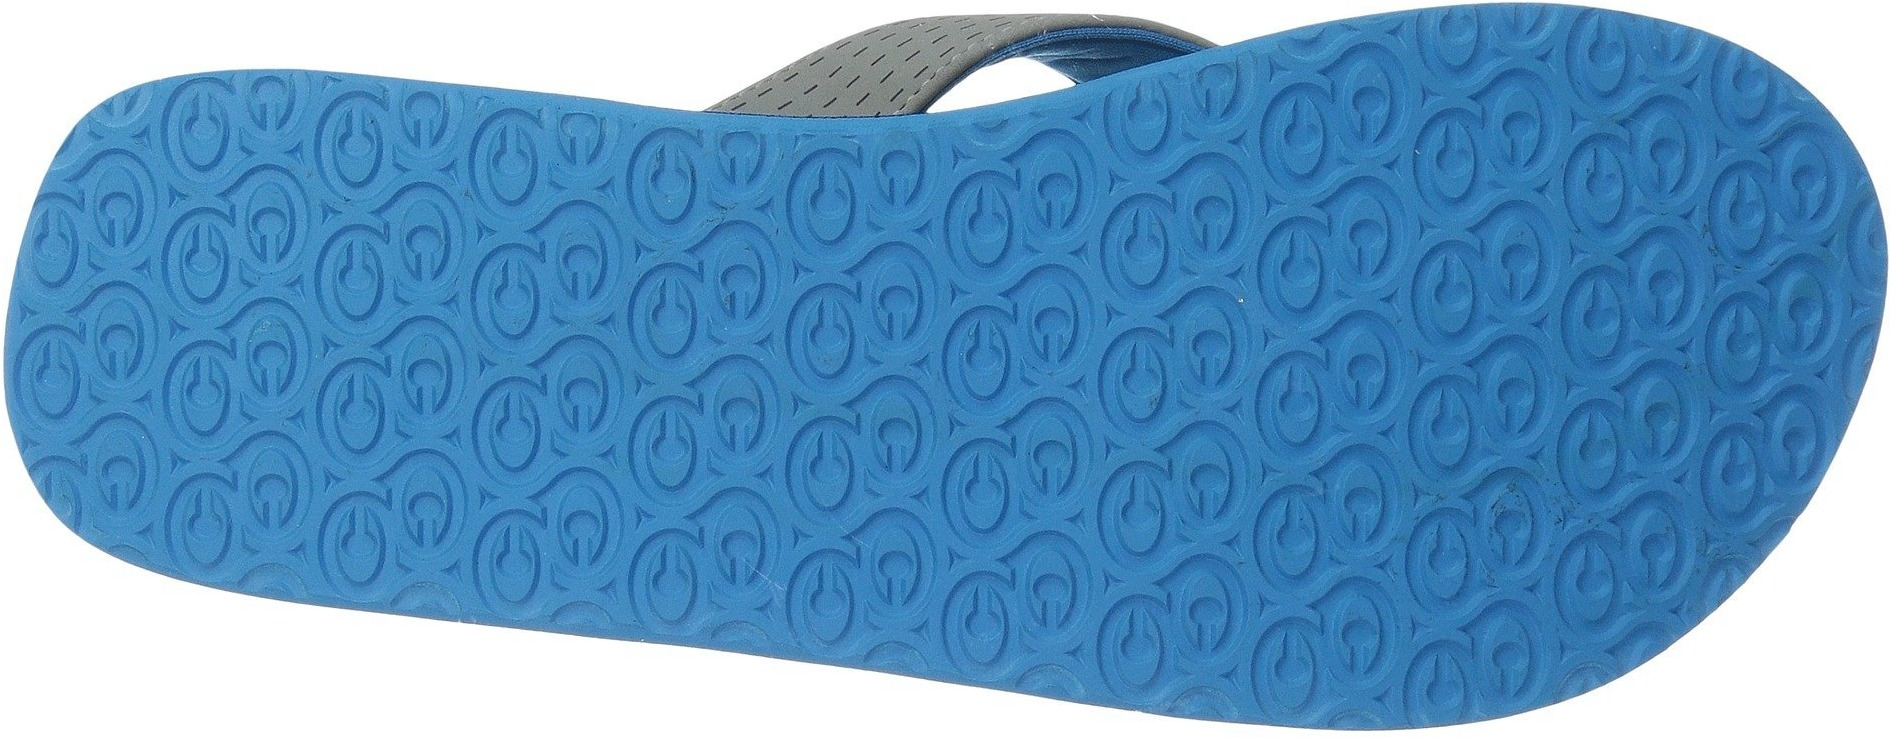other: (1088, 89, 1673, 655), (195, 121, 674, 592), (747, 128, 1047, 416), (769, 397, 1044, 655)
